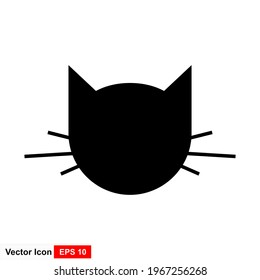cat: (21, 63, 240, 197)
